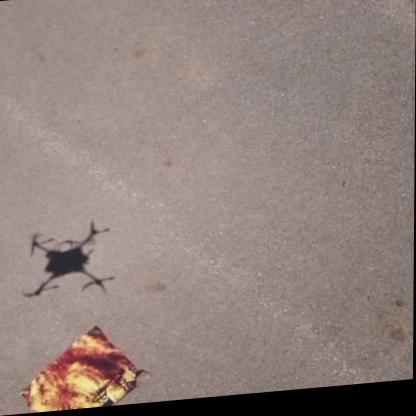fire-poster: (19, 322, 149, 415)
